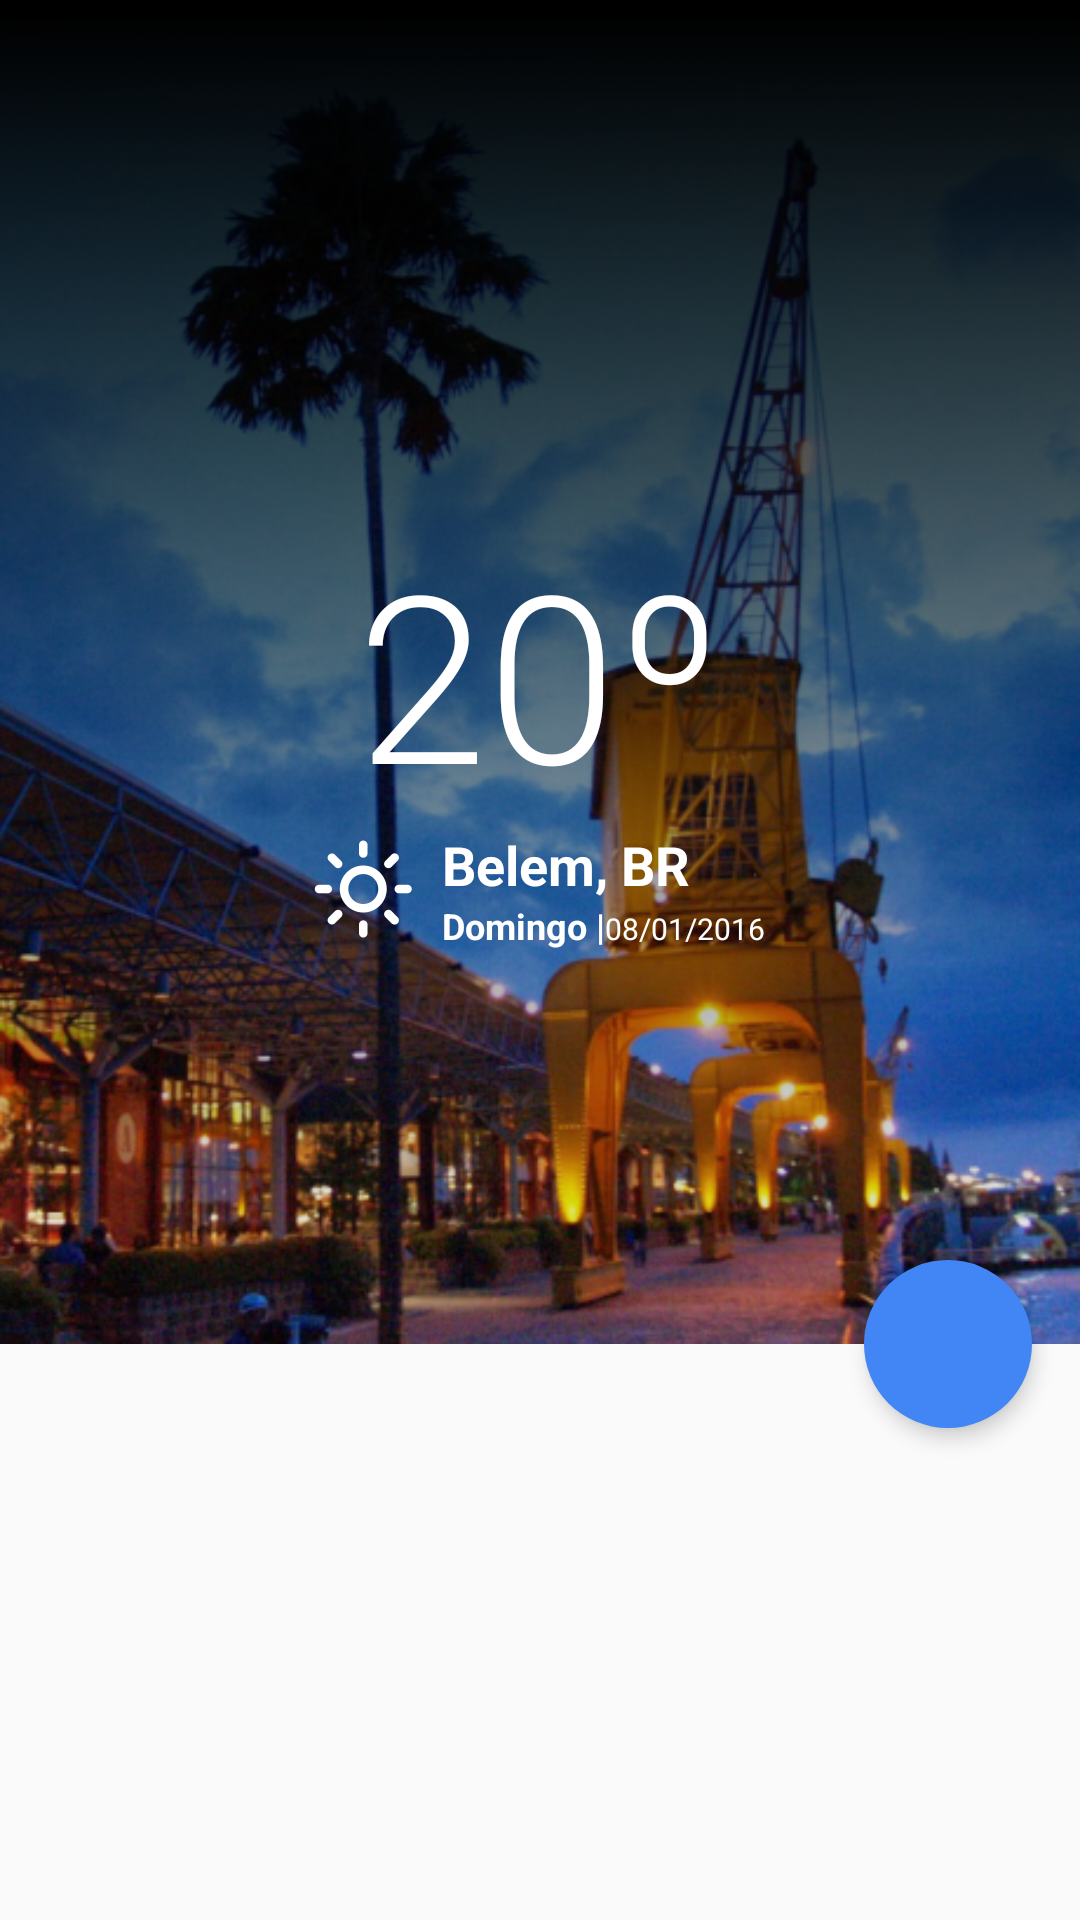

Point at icon controls on the screen. Image size 1080x1920, points as point (x, y).
Ícone do clima: point (363, 889)
